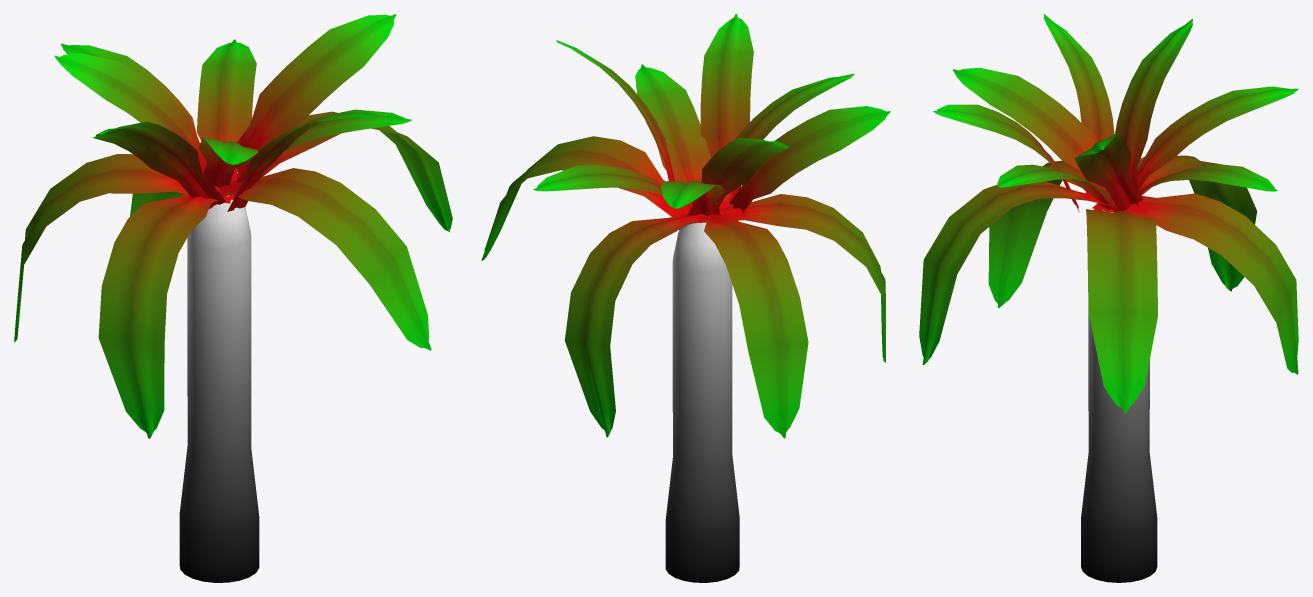
File: Palmier.fbx
The picture shows the model from 3 angles, left to right: view 1: azimuth 30°, elevation 25°; view 2: azimuth 150°, elevation 25°; view 3: azimuth 270°, elevation 25°; orthographic projection. The views are drawn at different scales.
Parts seen in each view (by area): view 1: Tronc, Feuilleù3, Feuilleù2, Feuilleù11, Feuilleù5, Feuilleù12, Feuilleù7, Feuilleù10, Feuilleù, Feuilleù13, Feuilleù9, Feuilleù8 (+2 smaller); view 2: Tronc, Feuilleù5, Feuilleù4, Feuilleù13, Feuilleù10, Feuilleù3, Feuilleù, Feuilleù8, Feuilleù12, Feuilleù7, Feuilleù9, Feuilleù6 (+1 smaller); view 3: Tronc, Feuilleù, Feuilleù4, Feuilleù2, Feuilleù9, Feuilleù3, Feuilleù6, Feuilleù12, Feuilleù10, Feuilleù5, Feuilleù11, Feuilleù13 (+2 smaller).
Part boxes in pixels (bbox=[...]): Tronc: bbox=[179, 195, 259, 582]; Feuilleù3: bbox=[98, 187, 226, 438]; Feuilleù2: bbox=[218, 168, 431, 350]; Feuilleù11: bbox=[237, 14, 396, 175]; Feuilleù5: bbox=[14, 154, 231, 341]; Feuilleù12: bbox=[54, 53, 206, 172]; Feuilleù7: bbox=[197, 39, 256, 181]; Feuilleù10: bbox=[92, 121, 225, 208]; Feuilleù: bbox=[237, 111, 452, 231]; Feuilleù13: bbox=[227, 112, 378, 211]; Feuilleù9: bbox=[198, 137, 258, 187]; Feuilleù8: bbox=[236, 109, 411, 182]; Tronc: bbox=[665, 222, 739, 582]; Feuilleù5: bbox=[687, 211, 808, 438]; Feuilleù4: bbox=[564, 208, 730, 437]; Feuilleù13: bbox=[700, 14, 753, 203]; Feuilleù10: bbox=[729, 106, 890, 213]; Feuilleù3: bbox=[695, 194, 885, 362]; Feuilleù: bbox=[481, 136, 688, 260]; Feuilleù8: bbox=[635, 64, 710, 210]; Feuilleù12: bbox=[687, 138, 789, 216]; Feuilleù7: bbox=[533, 165, 697, 215]; Feuilleù9: bbox=[719, 73, 854, 207]; Feuilleù6: bbox=[660, 181, 725, 215]; Tronc: bbox=[1081, 208, 1157, 582]; Feuilleù: bbox=[1086, 209, 1157, 413]; Feuilleù4: bbox=[1094, 193, 1298, 374]; Feuilleù2: bbox=[919, 181, 1128, 364]; Feuilleù9: bbox=[953, 67, 1111, 199]; Feuilleù3: bbox=[988, 160, 1113, 307]; Feuilleù6: bbox=[1137, 86, 1298, 190]; Feuilleù12: bbox=[1115, 19, 1192, 206]; Feuilleù10: bbox=[1043, 14, 1114, 194]; Feuilleù5: bbox=[1092, 155, 1257, 291]; Feuilleù11: bbox=[1074, 132, 1143, 211]; Feuilleù13: bbox=[933, 104, 1079, 212].
Size of the model in its own units: 11.44 by 14.28 by 9.93.
